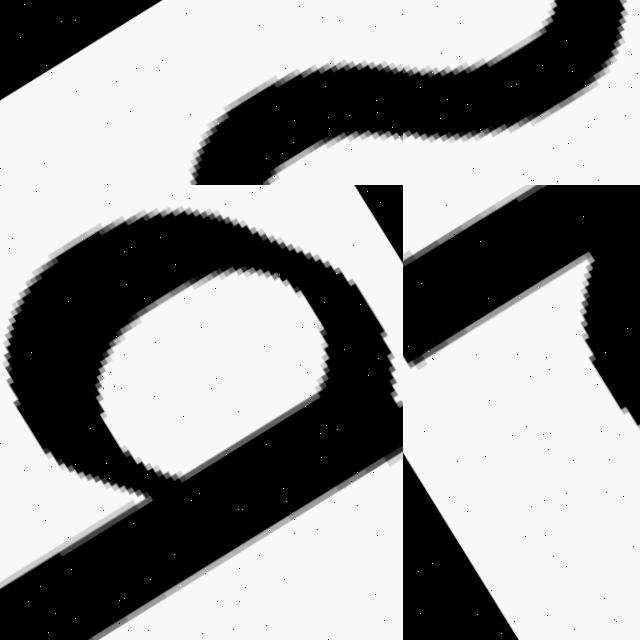5: (0, 0, 403, 185)
9: (403, 0, 640, 185)
B: (0, 196, 403, 640)
D: (403, 185, 640, 635)
